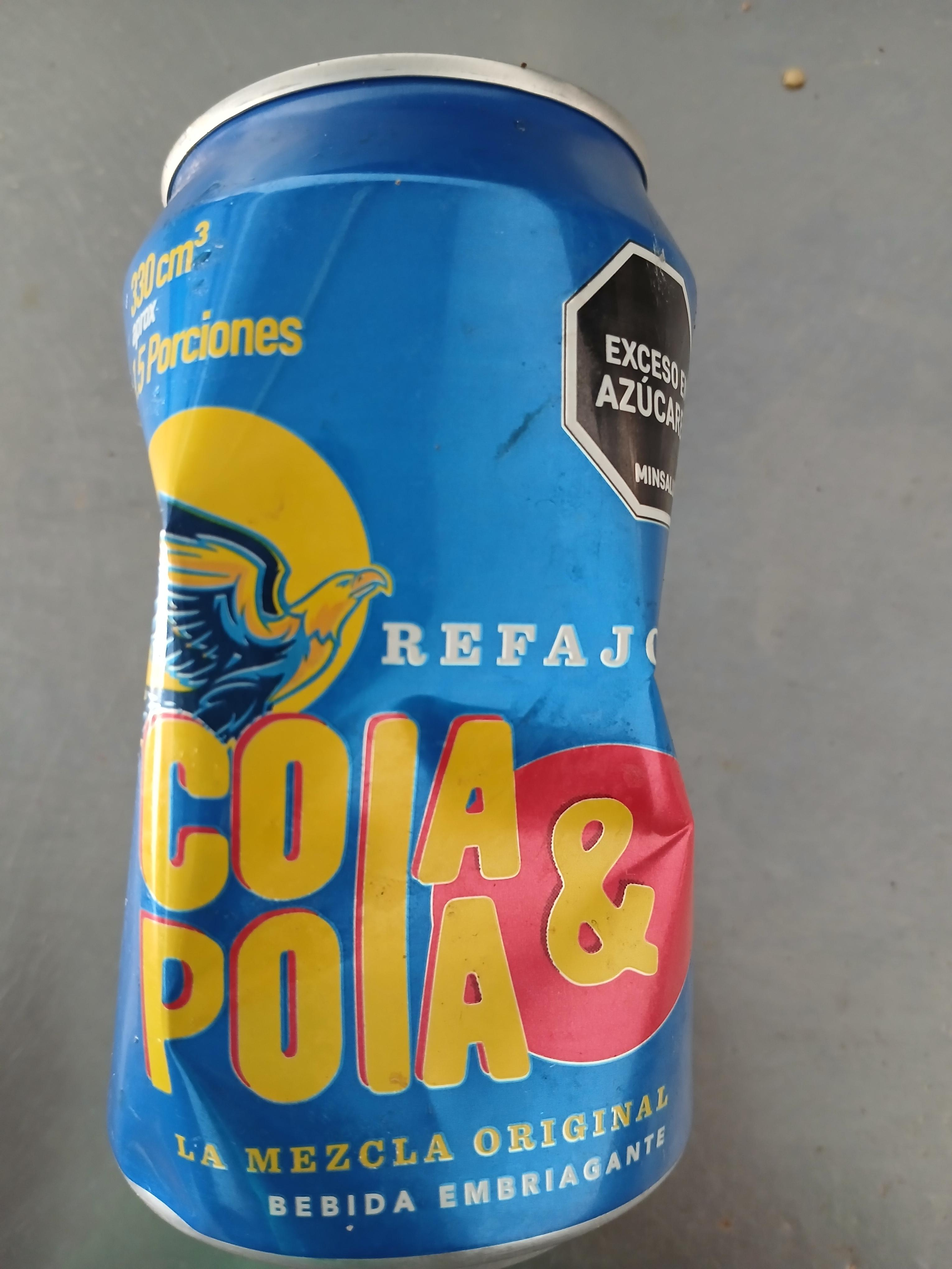Metal: (106, 73, 696, 1257)
